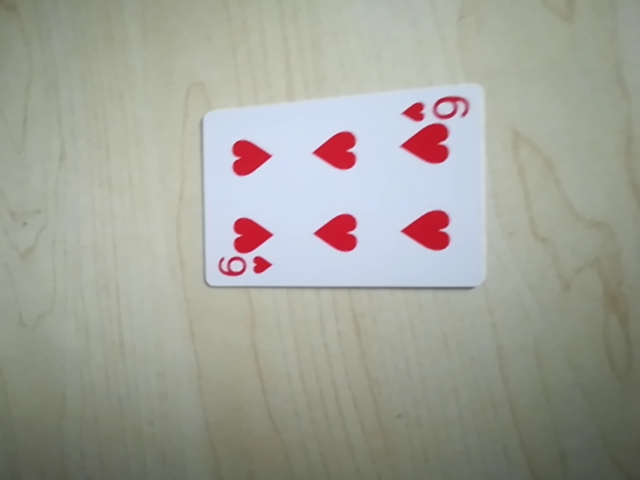hx 6: (399, 89, 473, 125), (213, 254, 273, 286)
